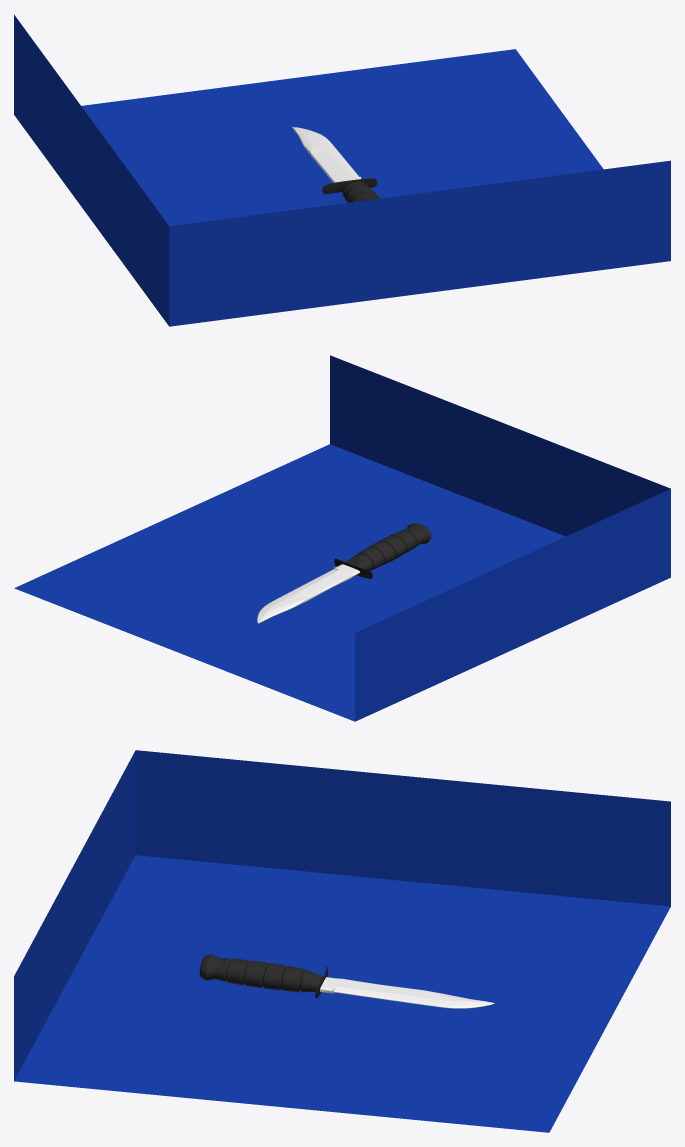
Rendered from knife.glb.
3 views of the same model, one above another, from view 1: azimuth 30°, elevation 25°; view 2: azimuth 150°, elevation 25°; view 3: azimuth 270°, elevation 25° (orthographic). The views are drawn at different scales.
Parts seen in each view (by area): view 1: 平面, blade, handle; view 2: 平面, handle, blade; view 3: 平面, handle, blade.
Part boxes in pixels (box(x1,y1,x2,y2)): 平面: box(14, 14, 670, 326); blade: box(292, 127, 361, 182); handle: box(340, 181, 380, 202); 平面: box(14, 355, 670, 721); handle: box(346, 523, 431, 570); blade: box(257, 564, 359, 623); 平面: box(14, 750, 670, 1132); handle: box(199, 954, 323, 992); blade: box(320, 977, 494, 1008).
Bounding box in the file's own units: 10.29 × 1.81 × 10.29.
